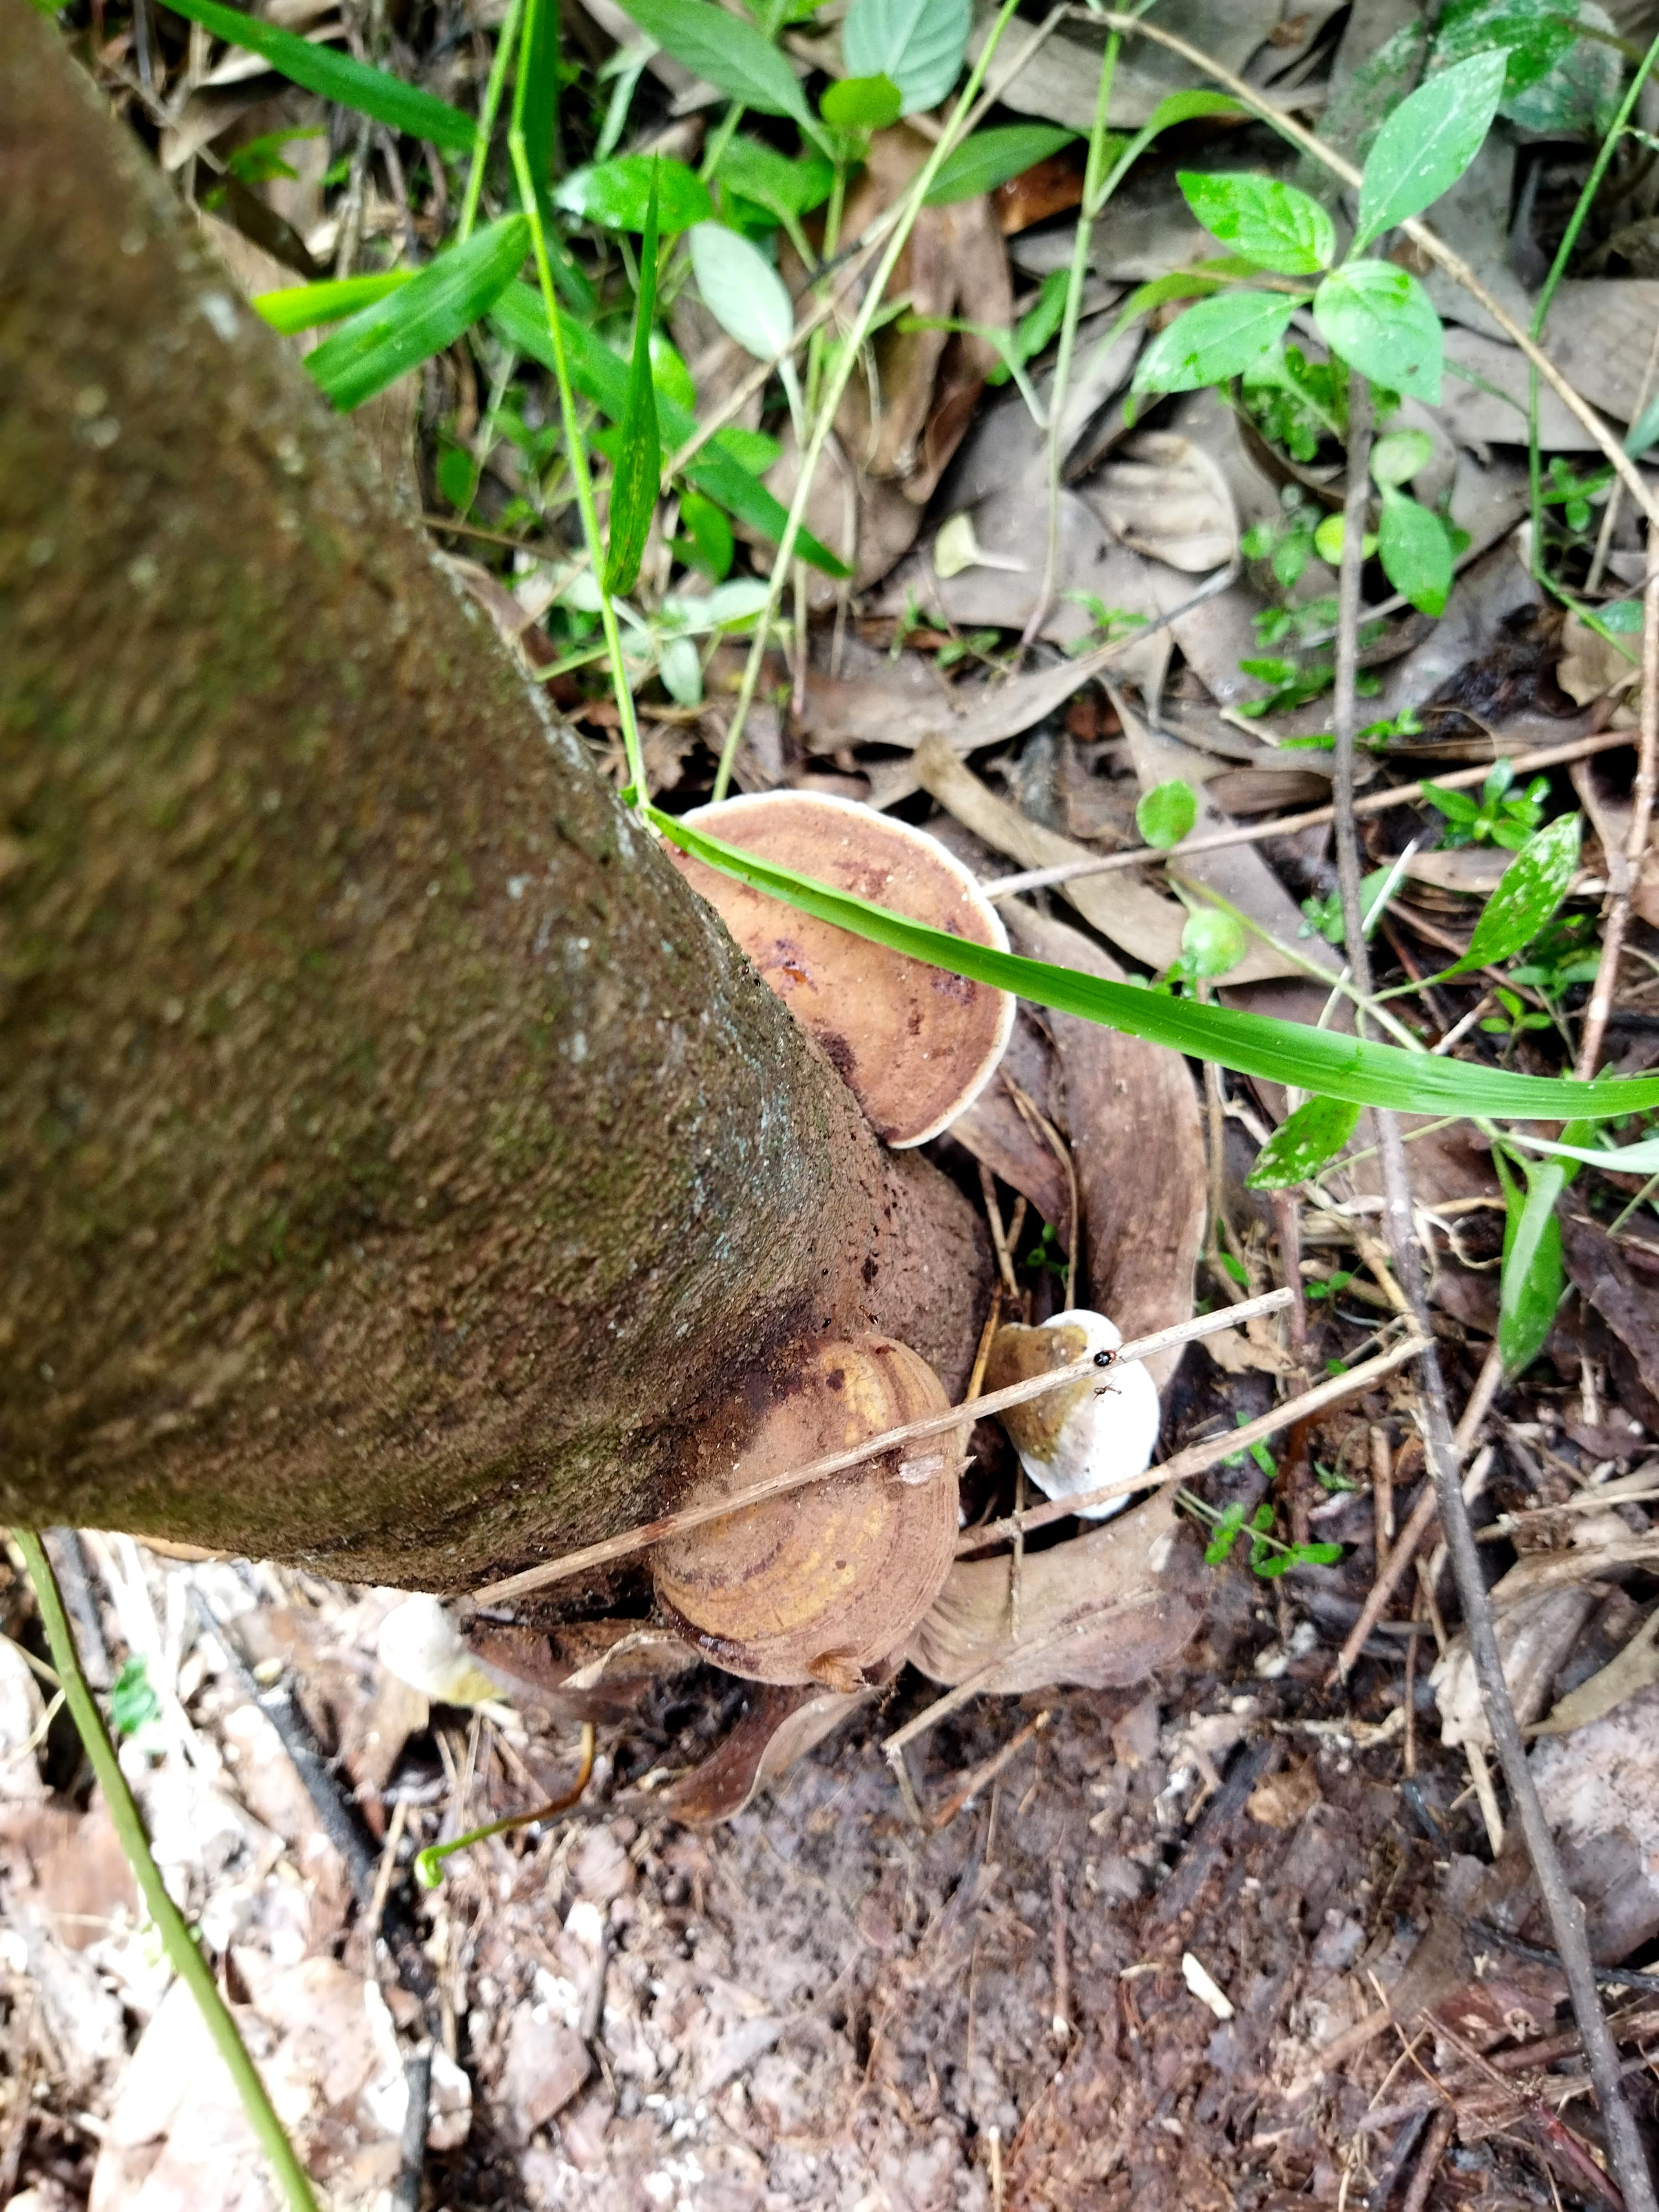Ganoderma - Fruit Body: (626, 808, 1028, 1155), (626, 1367, 957, 1735), (979, 1296, 1164, 1531)
